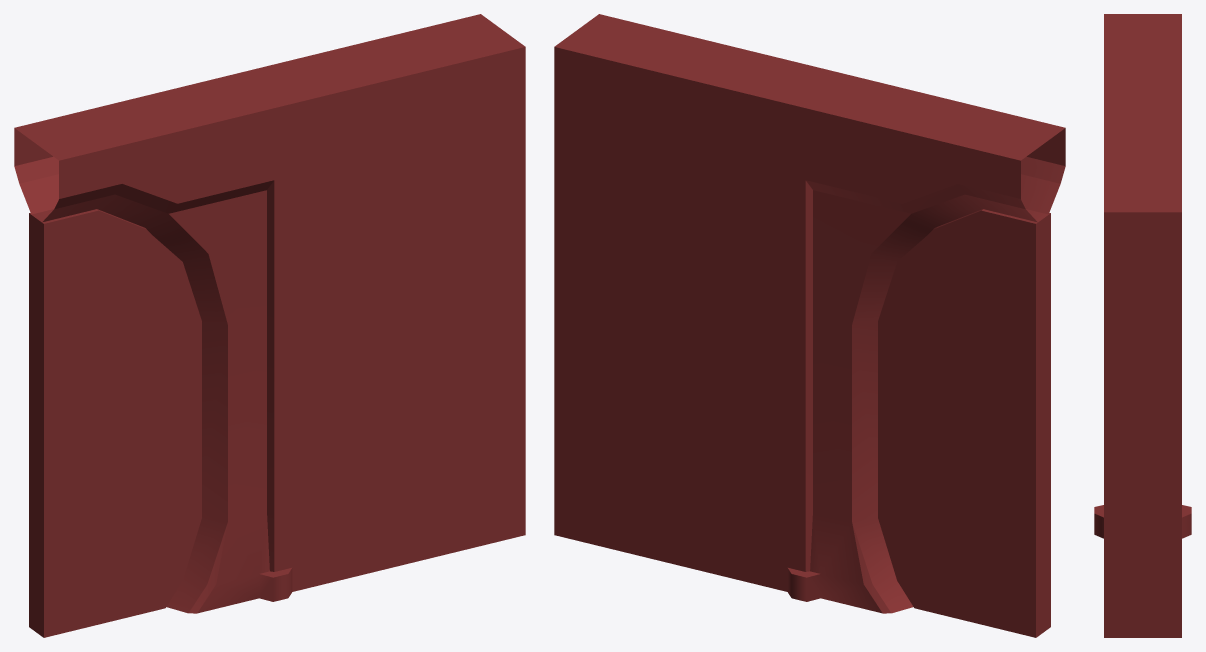
File: Bridge-Door-01.FBX
The picture shows the model from 3 angles, left to right: view 1: azimuth 30°, elevation 25°; view 2: azimuth 150°, elevation 25°; view 3: azimuth 270°, elevation 25°; orthographic projection. The views are drawn at different scales.
Visible parts, largest first — view 1: Bridge-Door-01, Door; view 2: Bridge-Door-01, Door; view 3: Bridge-Door-01.
Boxes of the visible parts, x1=… form: Bridge-Door-01: x1=14, y1=14, x2=525, y2=613; Door: x1=29, y1=209, x2=201, y2=637; Bridge-Door-01: x1=554, y1=14, x2=1065, y2=613; Door: x1=878, y1=209, x2=1050, y2=637; Bridge-Door-01: x1=1094, y1=14, x2=1191, y2=637.
Bounding box in the file's own units: 300 × 300 × 62.1.
